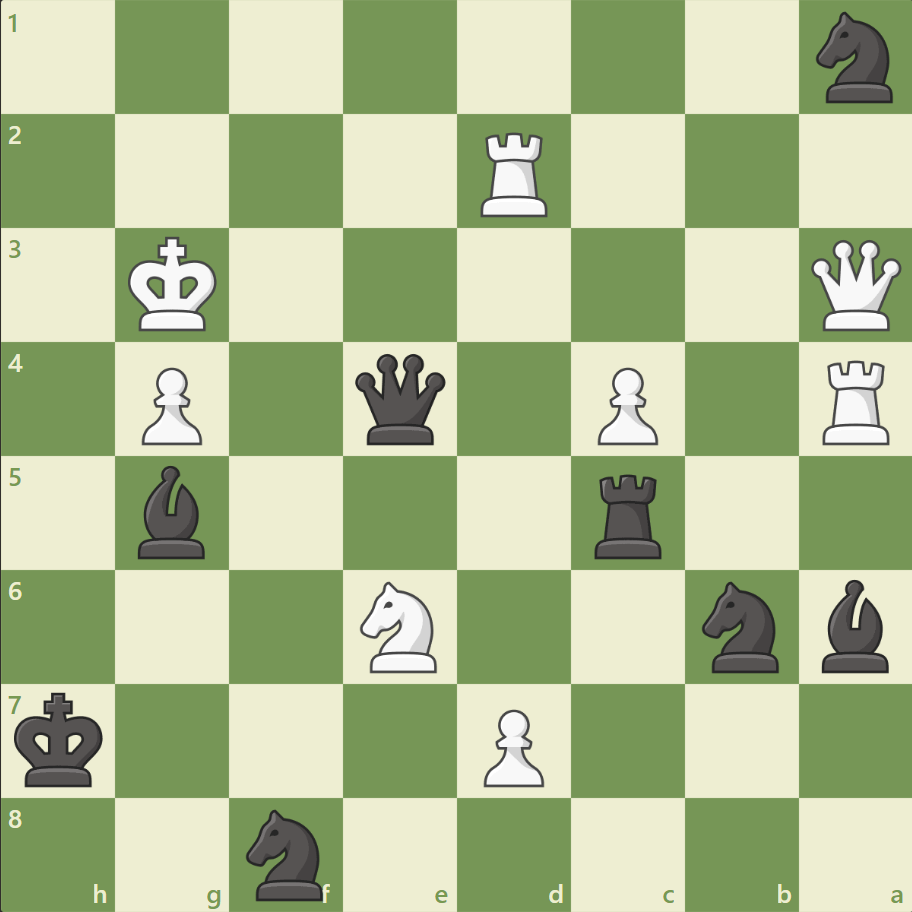K: (124, 231, 224, 339)
N: (351, 575, 449, 677)
P: (474, 700, 549, 791), (133, 359, 208, 450), (588, 359, 662, 450)
Q: (805, 236, 904, 335)
R: (814, 352, 897, 449), (473, 125, 556, 222)
b: (131, 460, 215, 563), (812, 574, 896, 676)
k: (11, 685, 111, 793)
n: (806, 7, 903, 110), (238, 802, 335, 904), (692, 575, 789, 677)
q: (351, 349, 450, 449)
r: (587, 466, 670, 563)
